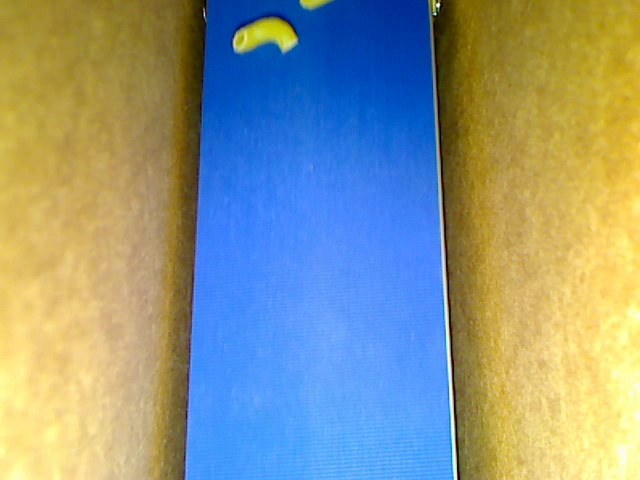elbow: (232, 17, 297, 53)
